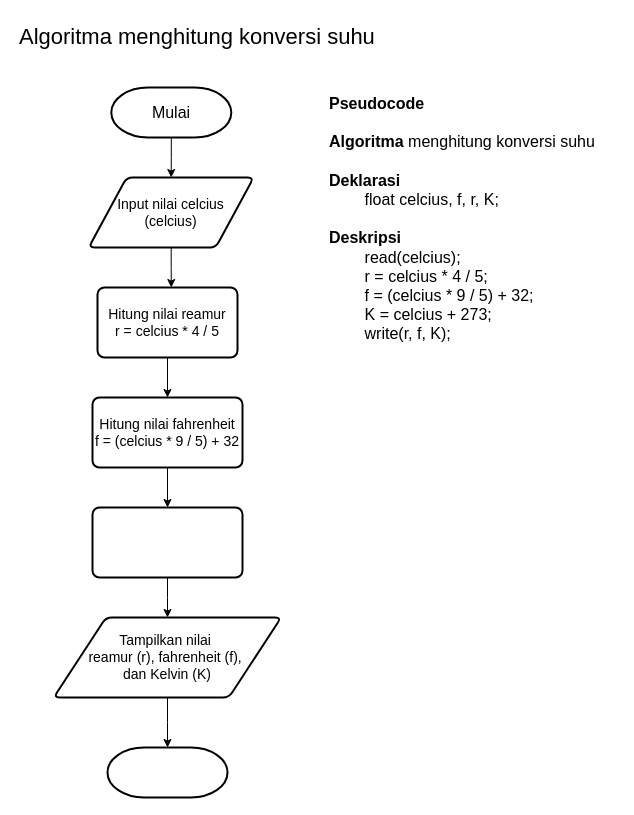
The diagram is 634 pixels wide and 815 high, and some of its shapes have lost their labels. Each missing label, with the centre of its shape:
Hitung nilai Kelvin K = celcius + 273: (167,542)
Selesai: (167,772)
